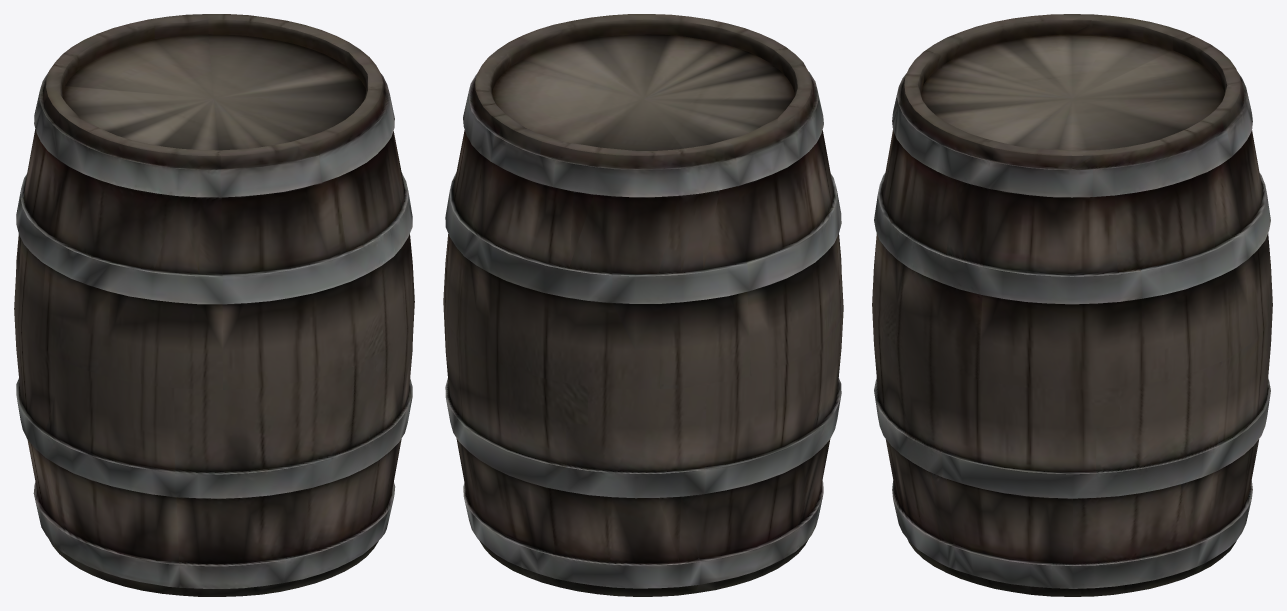
File: barrel_water.glb
3 renders of one model, left to right at view 1: azimuth 30°, elevation 25°; view 2: azimuth 150°, elevation 25°; view 3: azimuth 270°, elevation 25°, orthographic.
Visible parts, largest first — view 1: model; view 2: model; view 3: model.
Boxes of the visible parts, bbox=[...] form: model: bbox=[14, 14, 414, 596]; model: bbox=[443, 14, 843, 596]; model: bbox=[872, 14, 1272, 596].
Size of the model in its own units: 0.8239 by 1 by 0.8239.
1 material, 1 textured.
